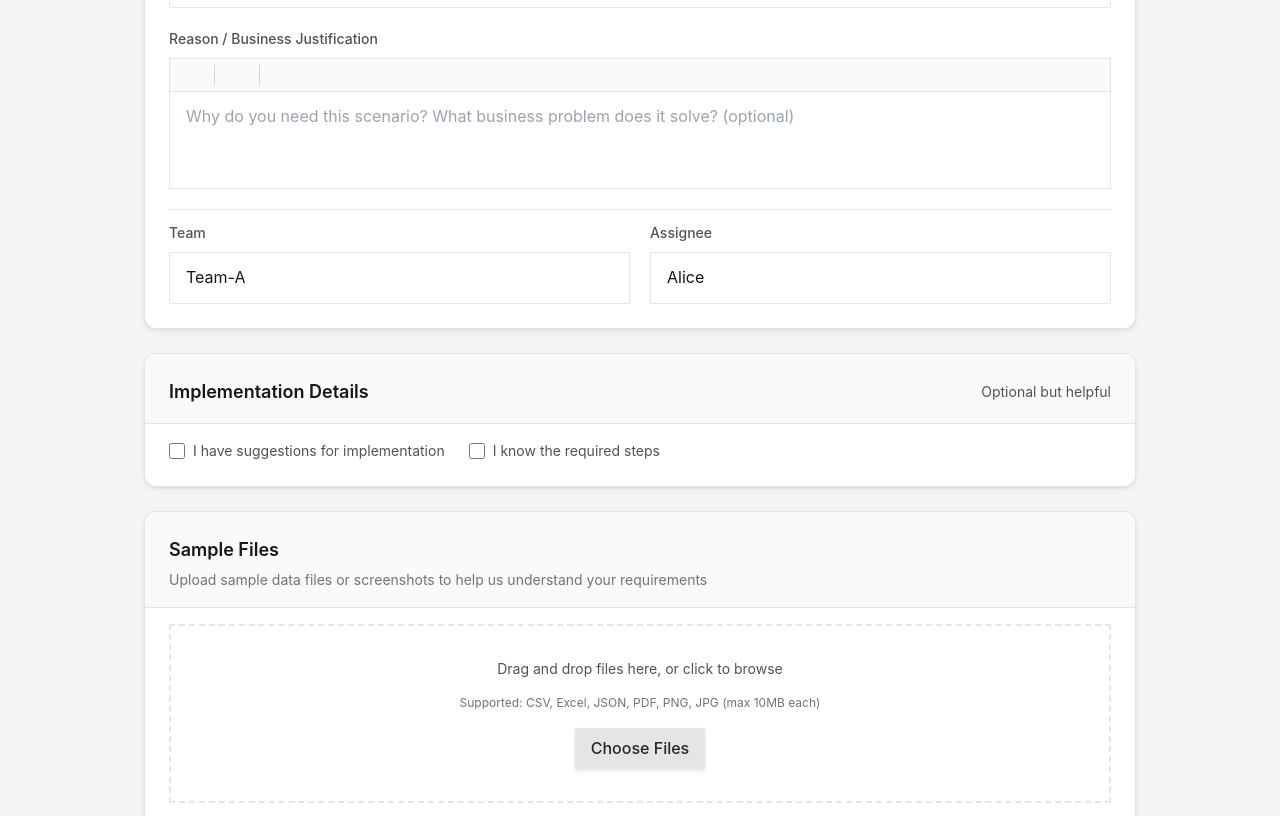
it: AskScenarioPage › adds a step with database and query fields populated
The width and height of the screenshot is (1280, 816).
(page scrolled)
expect the heading "Implementation Details" is shown: met, box [169,378,369,407]
Click the checkbox named "knows_steps": x=477, y=451 [469,443,485,459]
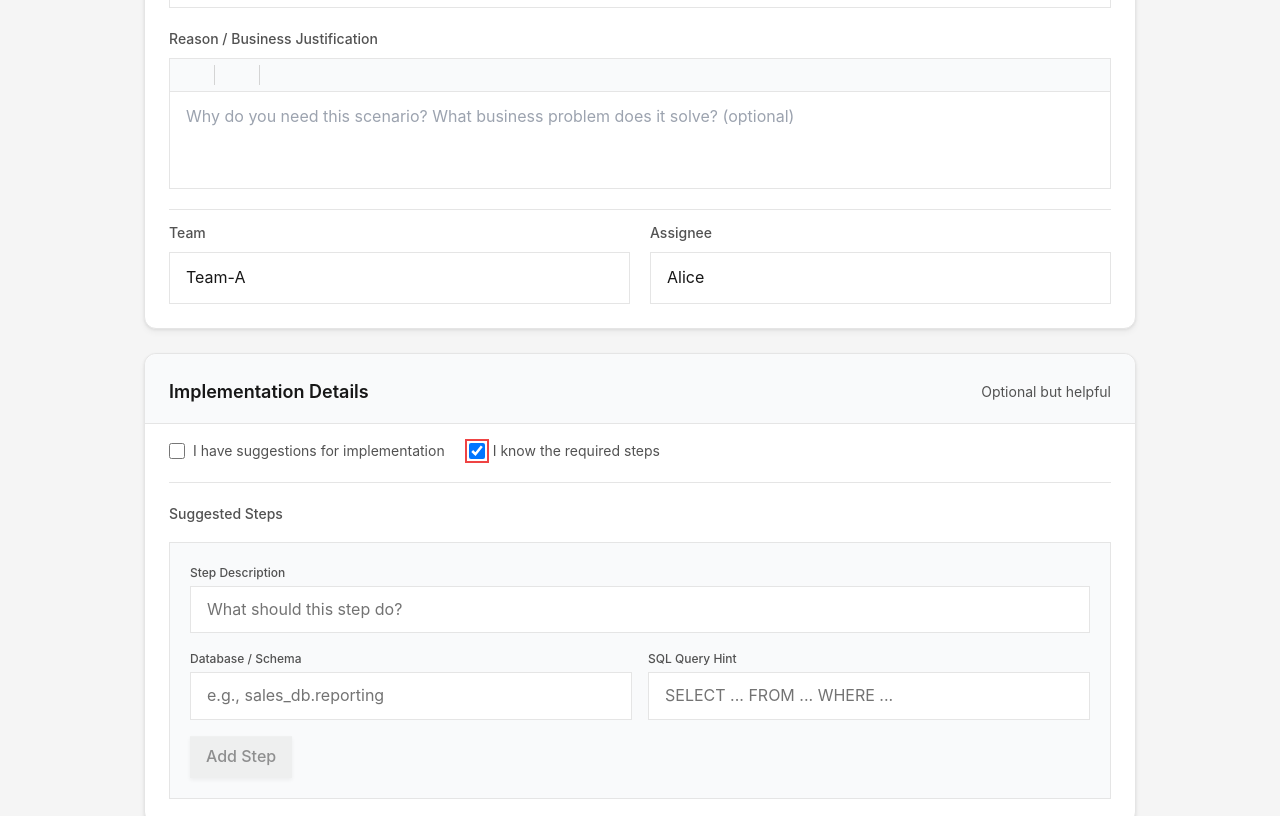
expect the field with placeholder "What should this step do?" is shown: met
In the field with placeholder "What should this step do?": x=640, y=610 [190,586,1090,633], type "Query step"
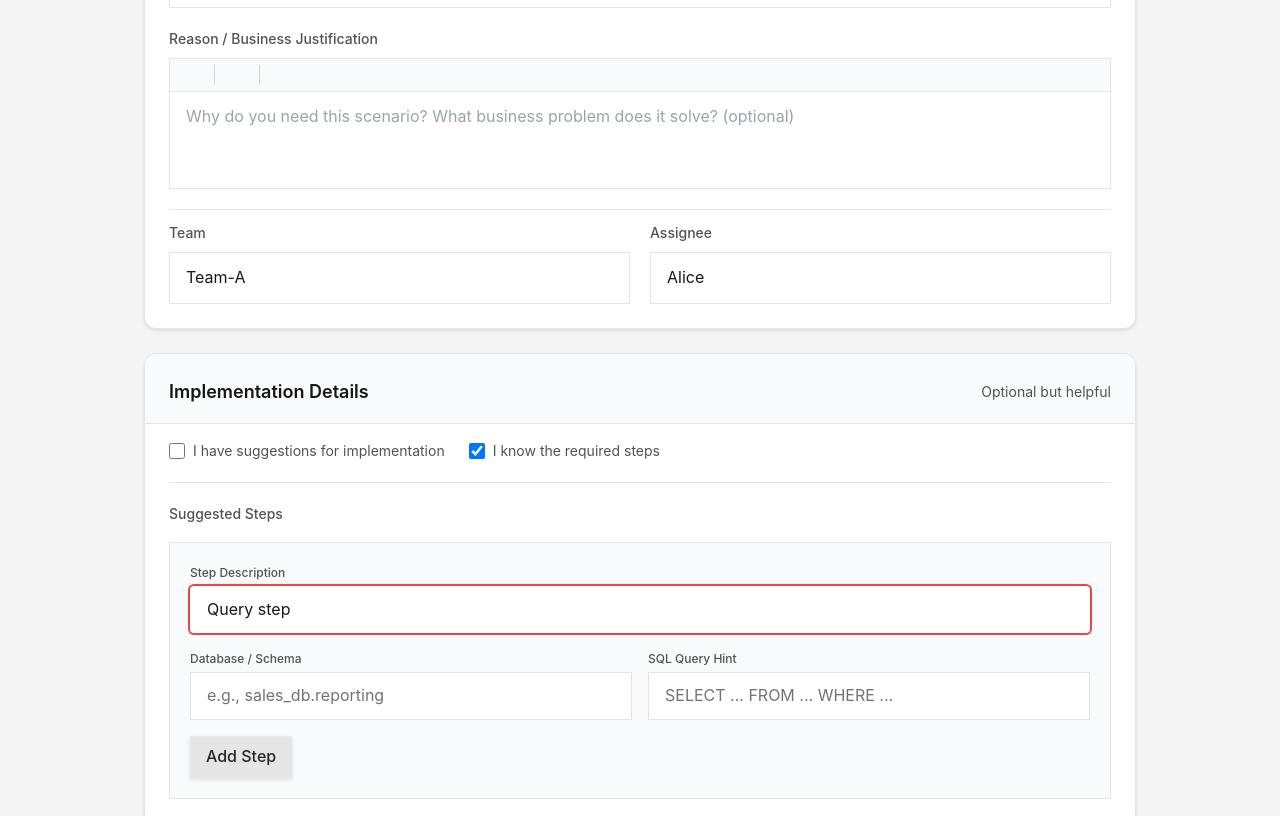
In the field with placeholder "e.g., sales_db.reporting": x=411, y=696 [190,672,632,720], type "my_database"
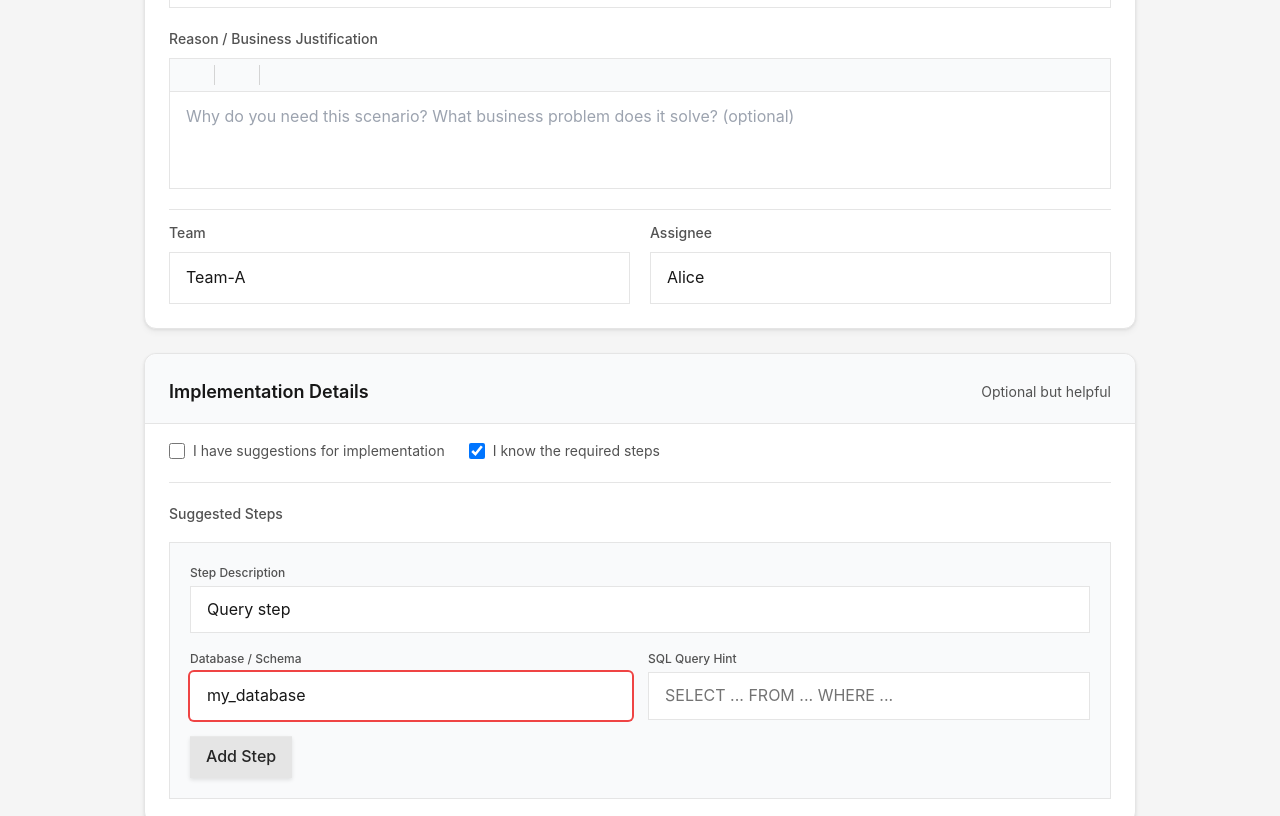
In the field with placeholder "SELECT ... FROM ... WHERE ...": x=869, y=696 [648,672,1090,720], type "SELECT * FROM users"
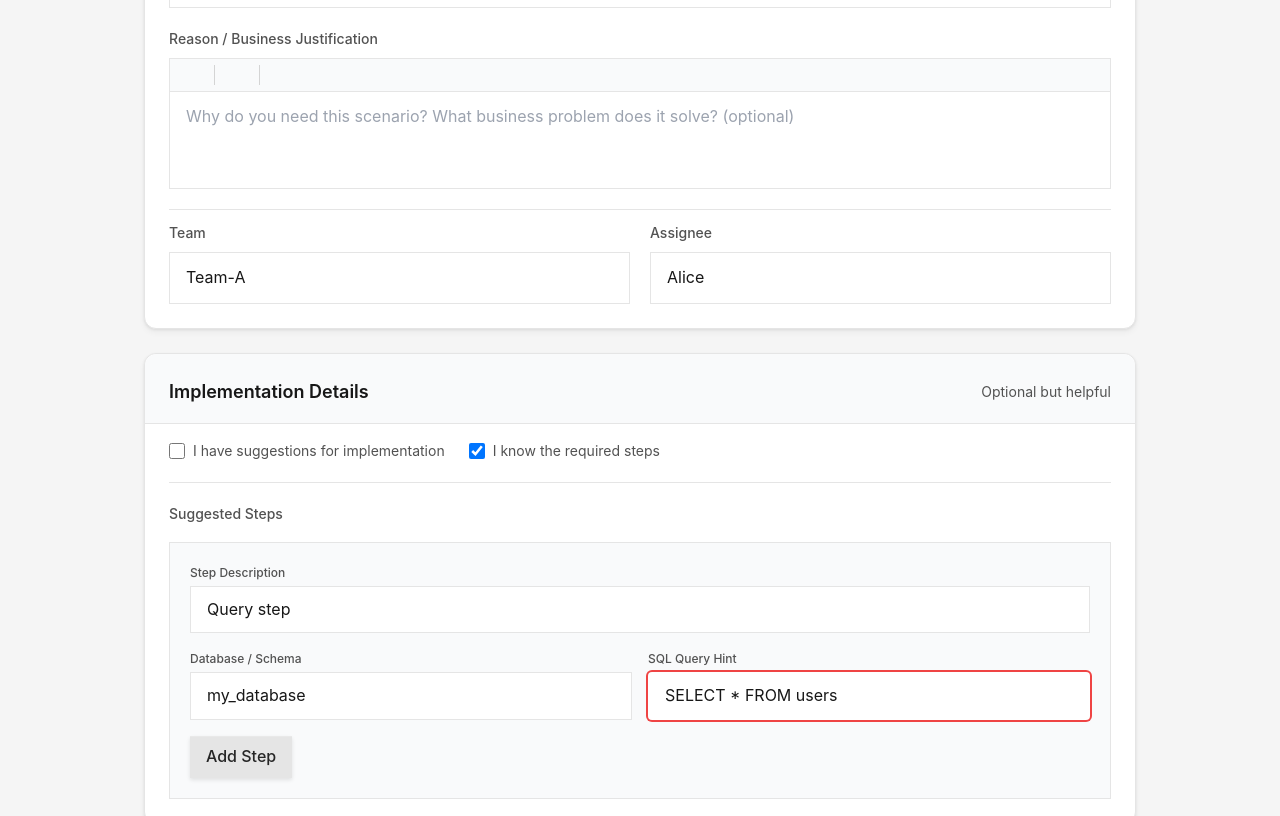
Click the button "Add Step": x=241, y=757 [190,736,292,778]
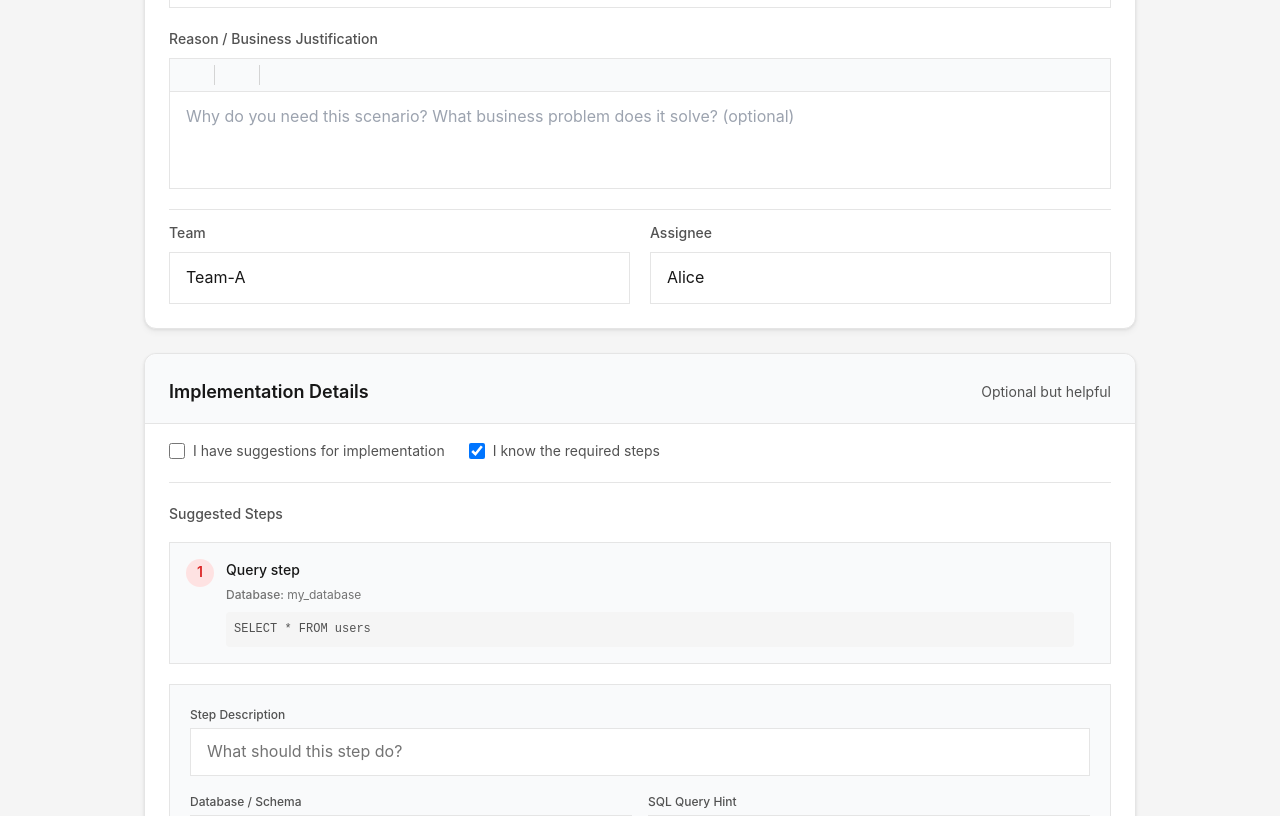
expect the text "Query step" is shown: met, box [226,560,300,578]
expect the text "Database: my_database" is shown: met, box [226,587,361,602]
expect the text "SELECT * FROM users" is shown: met, box [226,612,1074,647]
